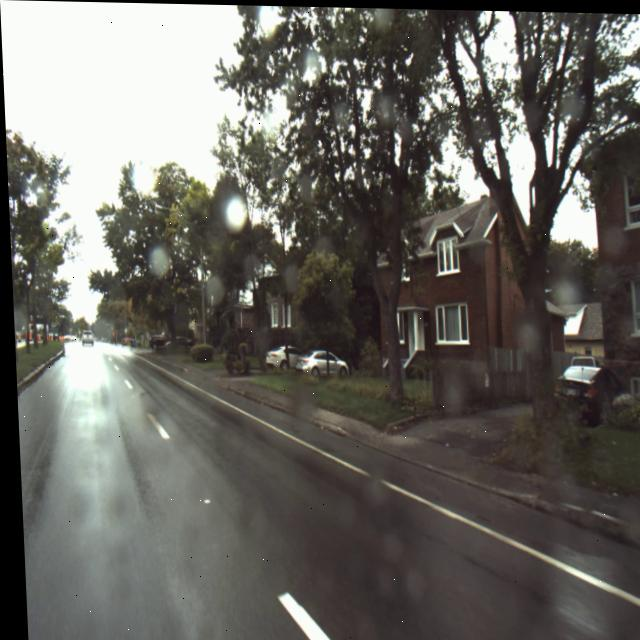car: (550, 361, 622, 424), (291, 349, 346, 383), (260, 344, 299, 370), (77, 330, 92, 346)
